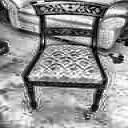chair_success: (2, 0, 126, 118)
